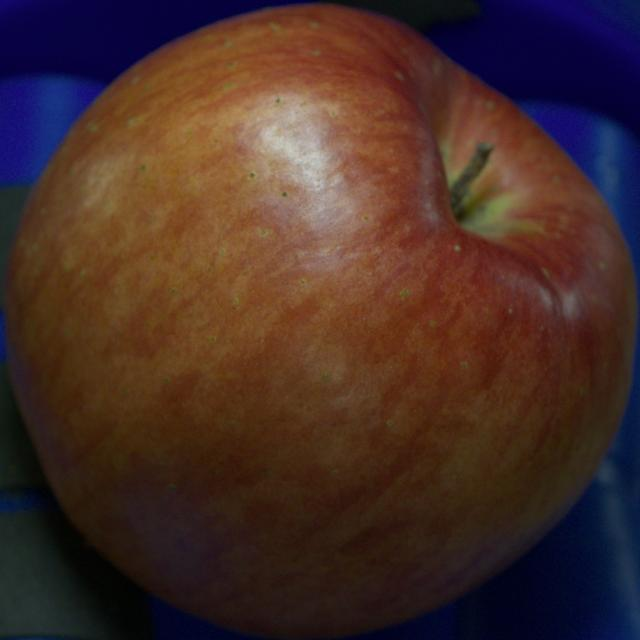apple: (3, 4, 637, 639)
